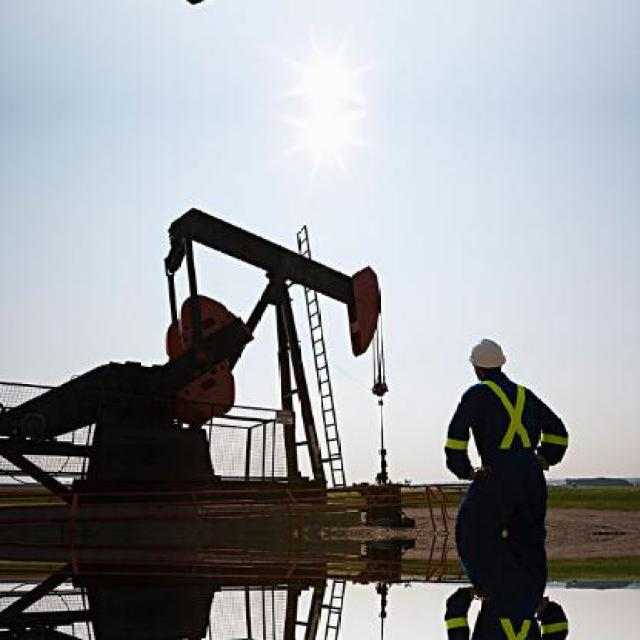helmet: (464, 328, 511, 386)
